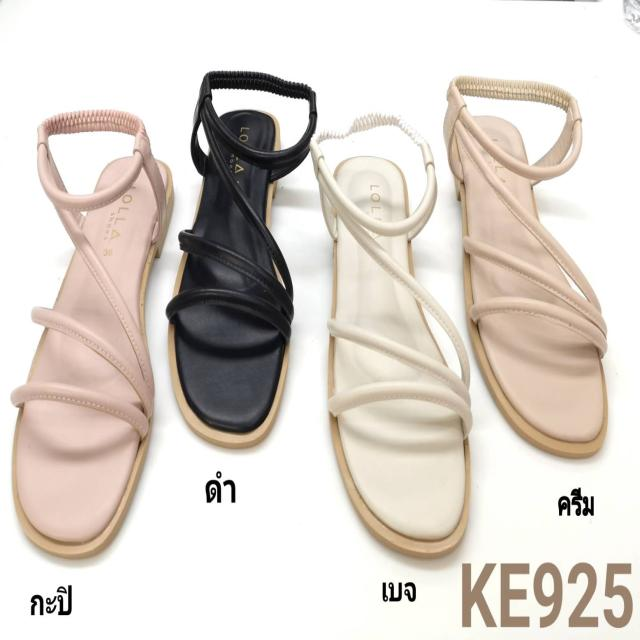bej: (309, 110, 475, 553)
black: (172, 75, 311, 446)
cream: (446, 75, 614, 456)
kapi: (15, 114, 174, 546)
